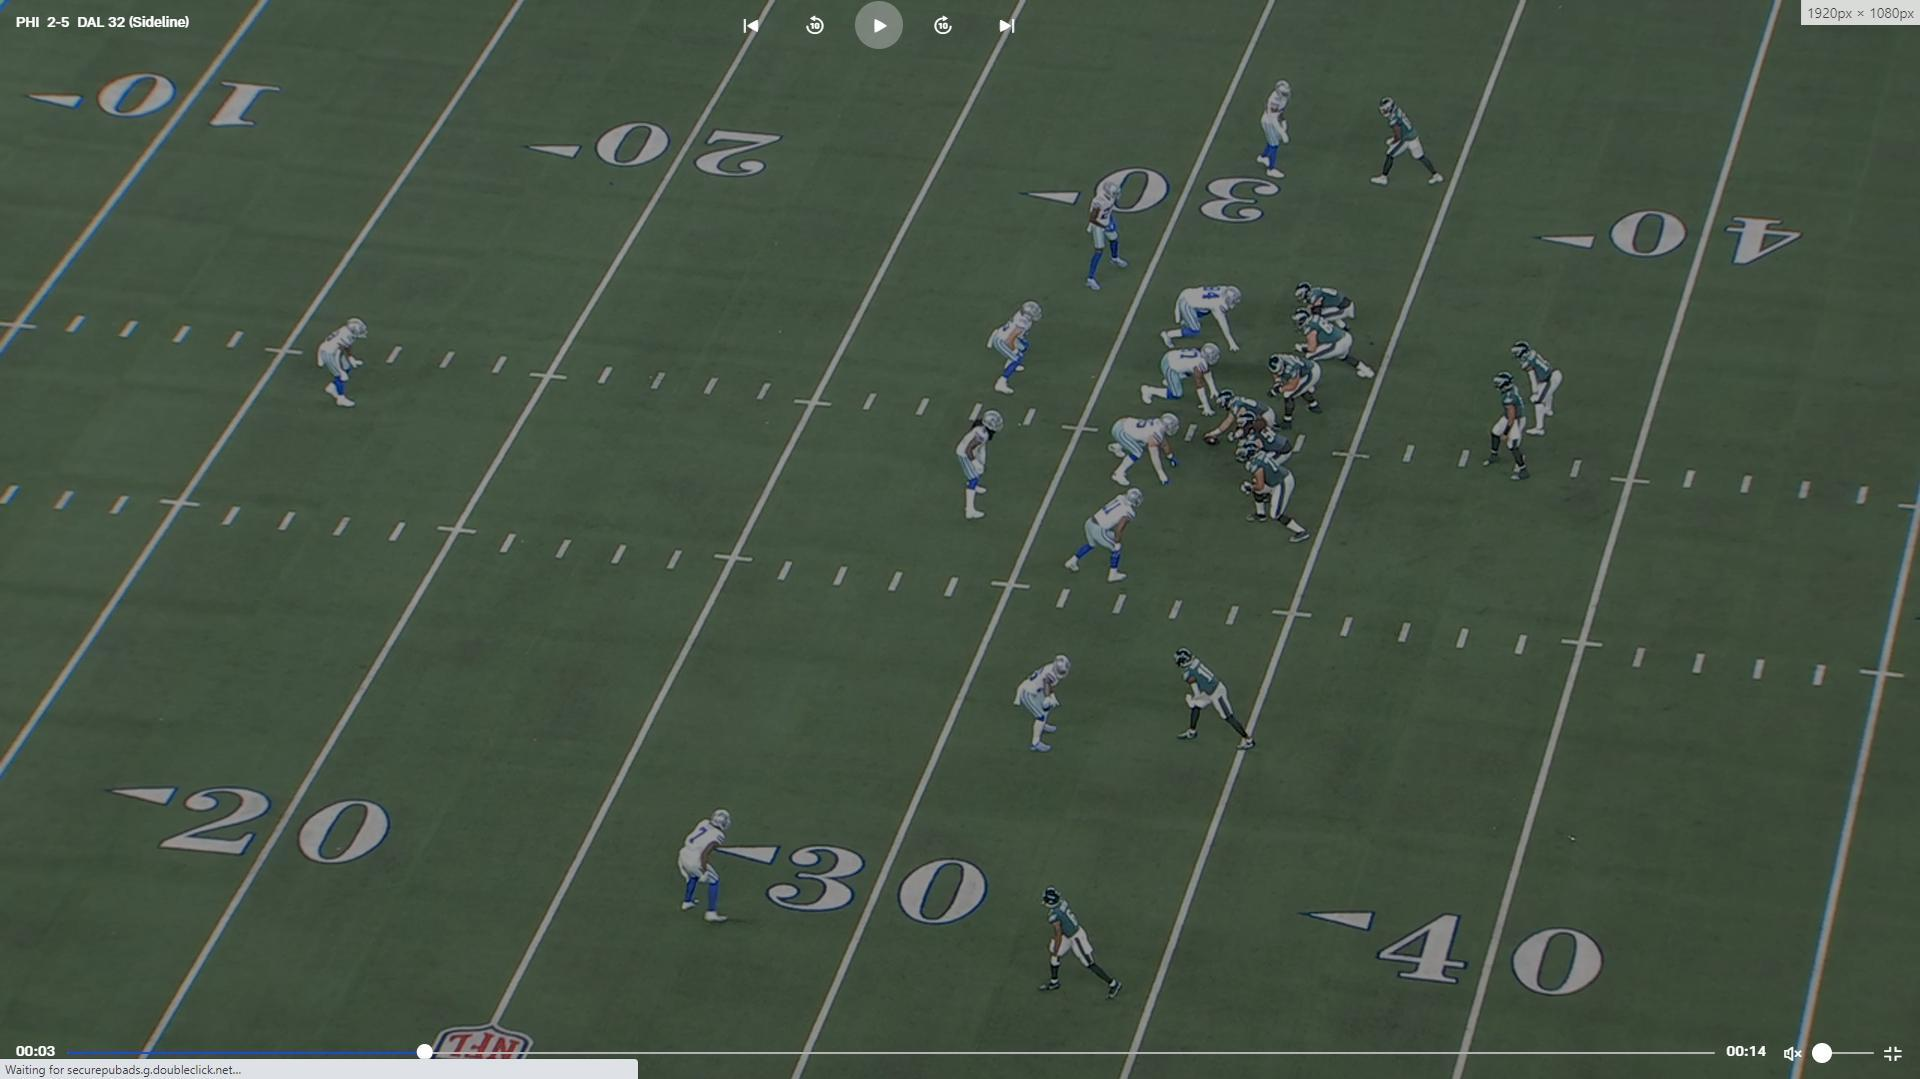defense: (1060, 487, 1146, 588), (673, 806, 733, 926), (1017, 653, 1079, 760), (952, 406, 1006, 525), (1135, 343, 1224, 414), (1109, 413, 1185, 492), (1156, 282, 1244, 351), (1081, 182, 1134, 294), (993, 301, 1048, 398), (318, 317, 369, 413), (1257, 75, 1299, 186)
oline: (1238, 441, 1313, 545), (1298, 309, 1379, 386), (1263, 350, 1328, 426), (1212, 389, 1282, 452), (1236, 418, 1295, 489)
qb: (1481, 371, 1531, 489)
skill: (1031, 882, 1127, 1004), (1166, 645, 1261, 757), (1366, 94, 1449, 193), (1506, 334, 1564, 441), (1290, 277, 1360, 351)
